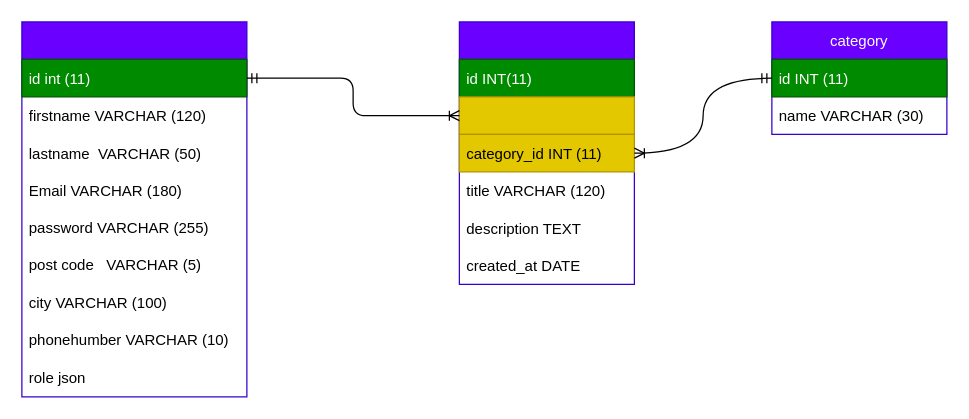
Some shapes in this 969 by 419 pixel diagram are drawn without their labels. The shapes that lost their labels are listed below. From the top down, each one's box as (x1, y1, x2, y2) in pixels, then its label:
(458, 96, 634, 134): user_id INT (11)
(458, 21, 634, 284): article
(21, 21, 247, 397): user
